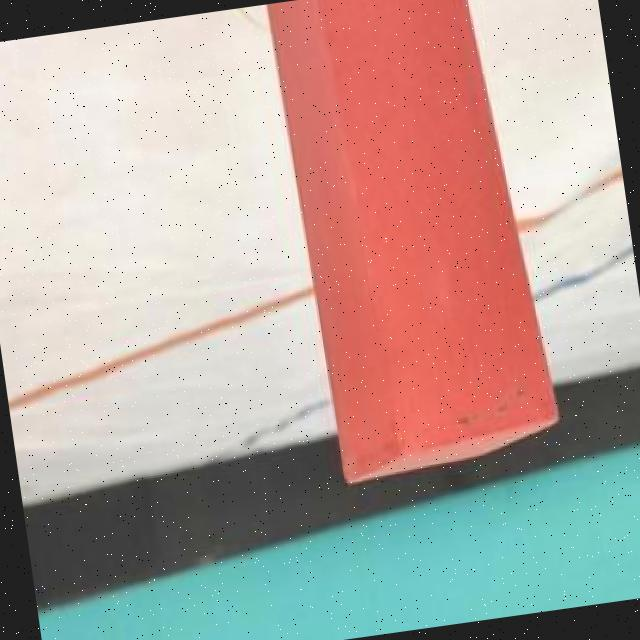redbox: (277, 0, 542, 481)
